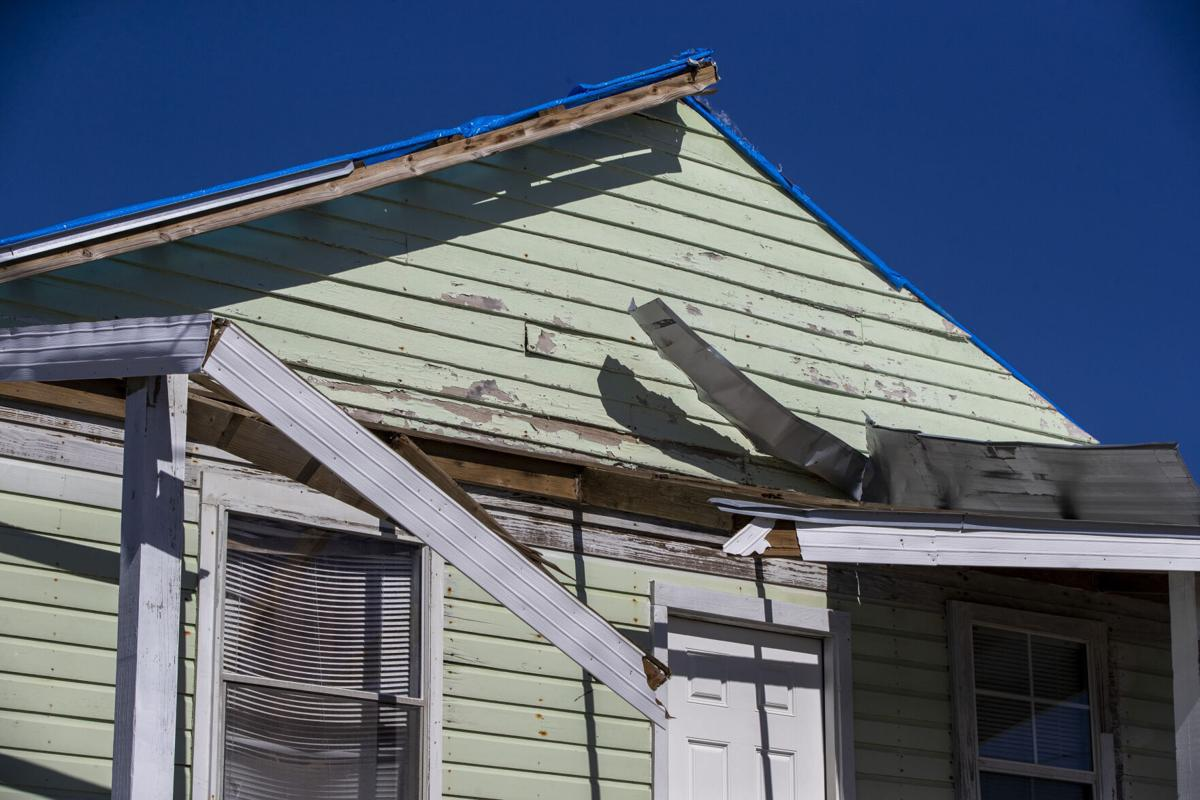major: (0, 45, 1191, 800)
